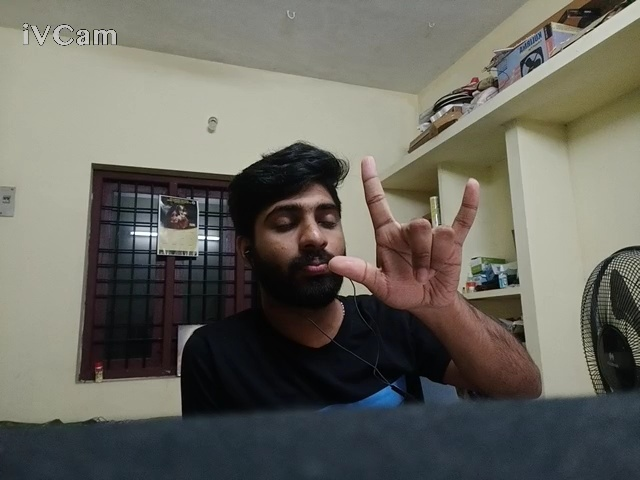I Love You: (316, 143, 506, 333)
